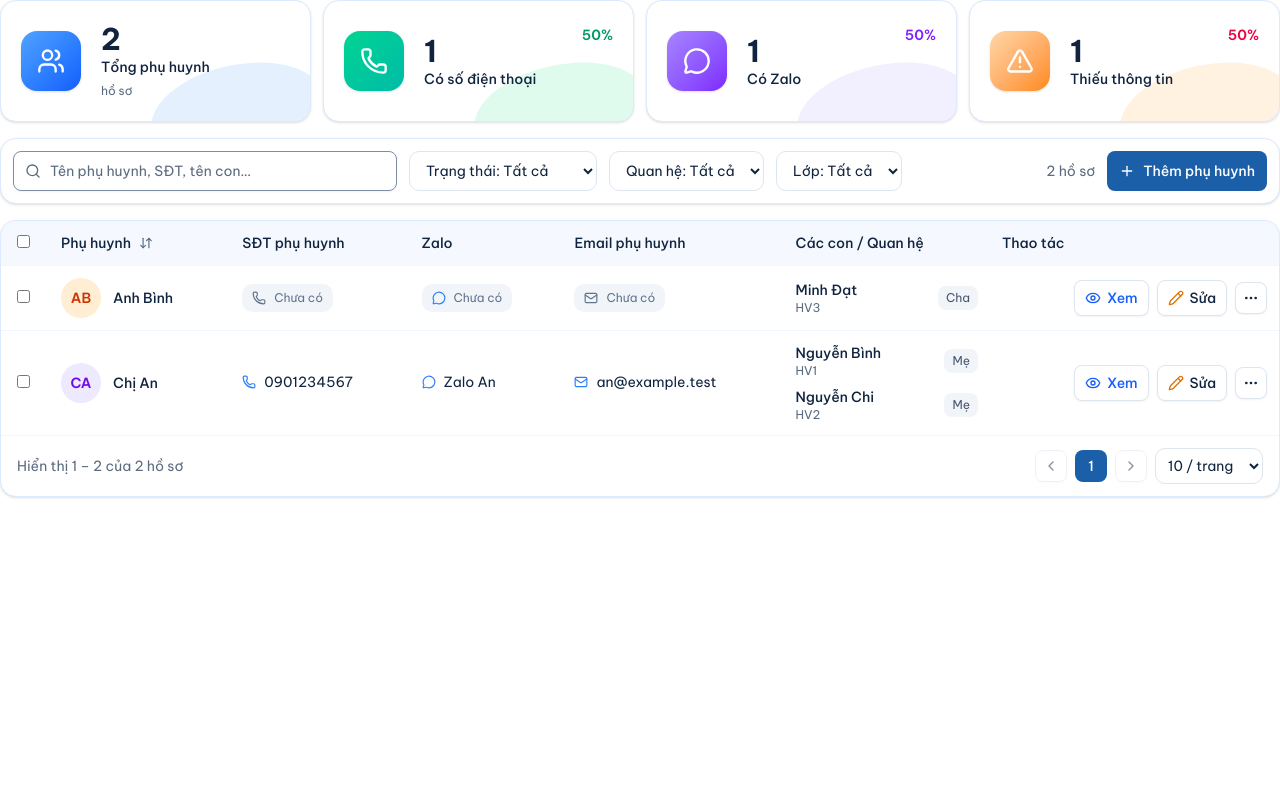
Scenario: opens the matching list for Có Zalo: 1
Click the button with aria-label "Có Zalo: 1".
click(802, 61)  # box [646,0,957,122]
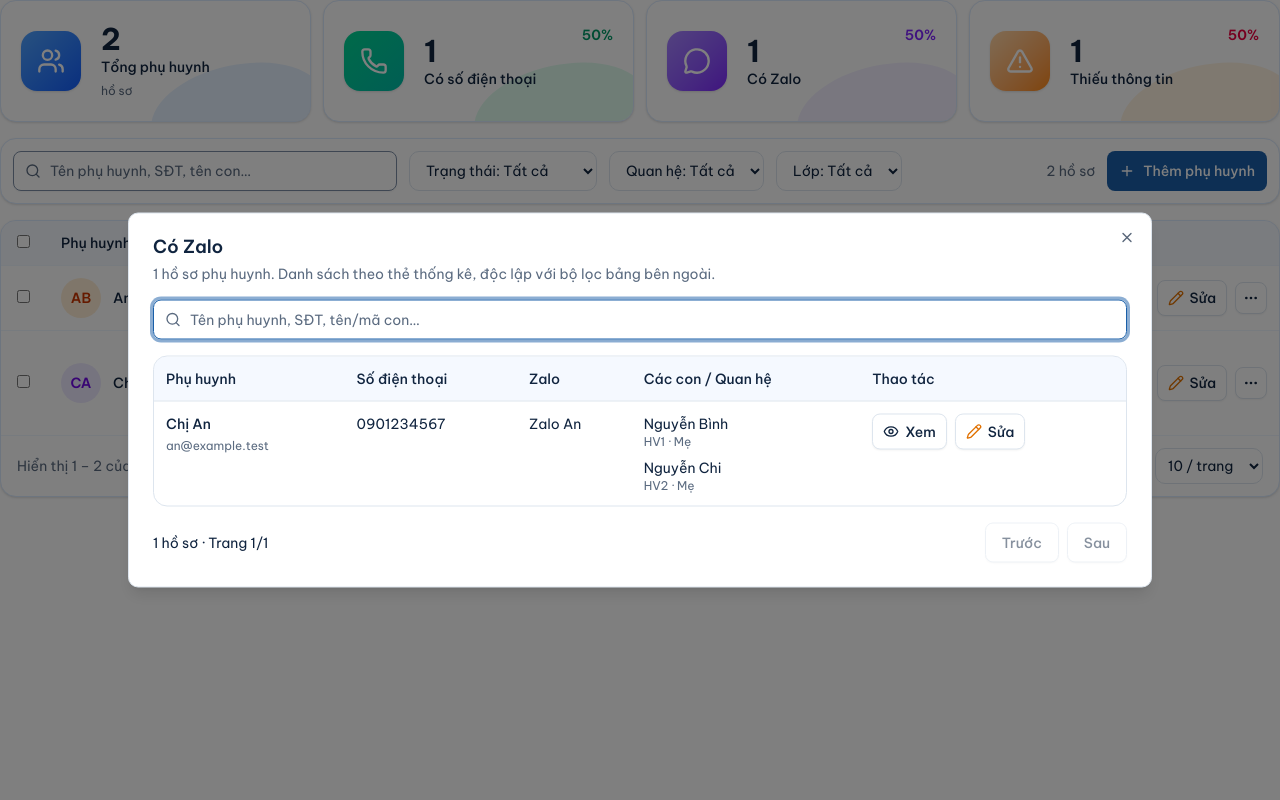
Check: the text "Chị An" is shown, box [166,414,211,432]
